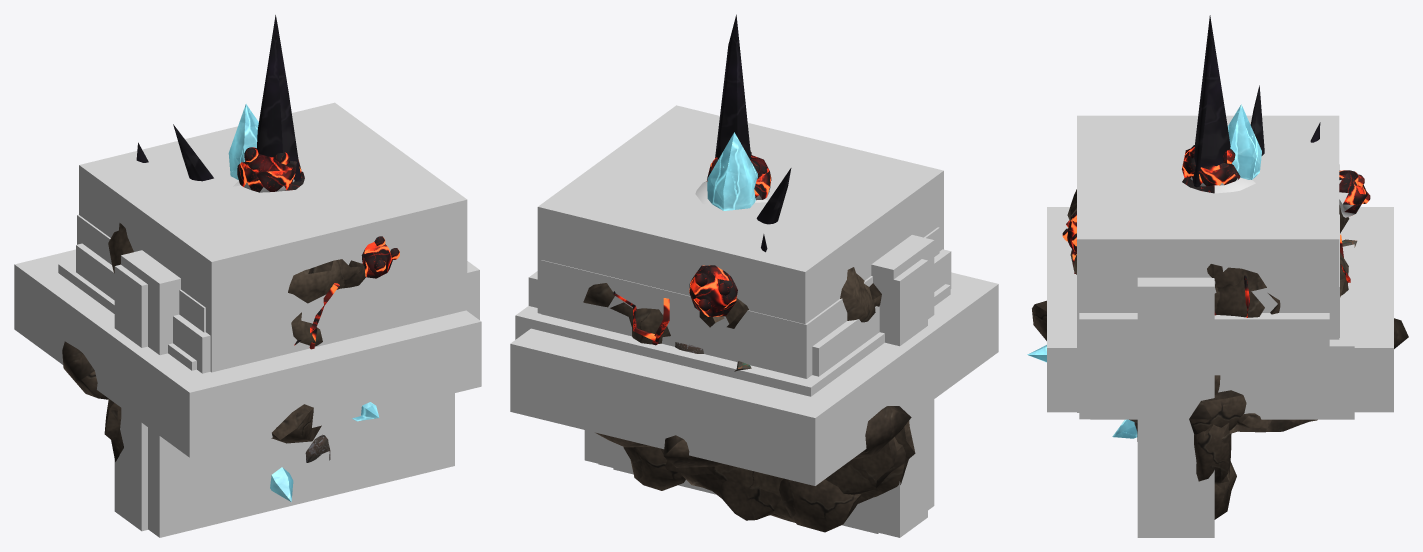
The model's file is Kit_Deposits.fbx.
The picture shows the model from 3 angles, left to right: view 1: azimuth 30°, elevation 25°; view 2: azimuth 150°, elevation 25°; view 3: azimuth 270°, elevation 25°; orthographic projection. The views are drawn at different scales.
Visible parts, largest first — view 1: COL_Body (×7), Chunk_00 (×3), Base (×2), Chunk_04 (×2), Chunk_01; view 2: COL_Body (×8), Base (×5), Chunk_00 (×3), Chunk_02, Chunk_01; view 3: COL_Body (×5), Base (×6), Chunk_00 (×3), Chunk_02, Chunk_01.
Part boxes in pixels (<box>): COL_Body (×7): <box>14,102,481,537</box>; Chunk_00 (×3): <box>228,15,301,192</box>; Base (×2): <box>62,171,365,443</box>; Chunk_04 (×2): <box>270,236,399,501</box>; Chunk_01: <box>173,124,213,181</box>; COL_Body (×8): <box>510,105,998,537</box>; Base (×5): <box>583,181,915,532</box>; Chunk_00 (×3): <box>707,14,771,210</box>; Chunk_02: <box>689,265,737,316</box>; Chunk_01: <box>756,168,791,224</box>; COL_Body (×5): <box>1047,115,1393,537</box>; Base (×6): <box>1032,177,1408,519</box>; Chunk_00 (×3): <box>1182,15,1261,187</box>; Chunk_02: <box>1339,170,1370,217</box>; Chunk_01: <box>1250,85,1264,155</box>.
Bounding box in the file's own units: 1.33 × 1.78 × 1.32.
